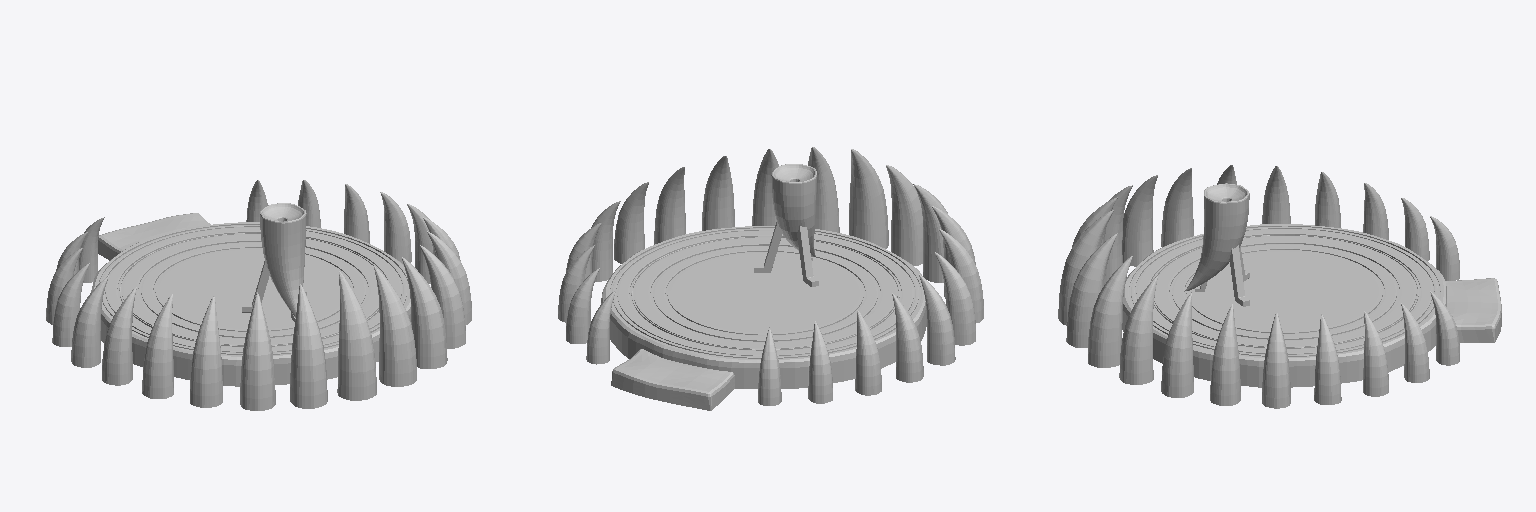
The model's file is Retrieval Altar.obj.
3 renders of one model, left to right at view 1: azimuth 30°, elevation 25°; view 2: azimuth 150°, elevation 25°; view 3: azimuth 270°, elevation 25°, orthographic.
Parts seen in each view (by area): view 1: pCylinder12; view 2: pCylinder12; view 3: pCylinder12.
Part boxes in pixels (left/top/right/bottom): pCylinder12: left=46, top=180, right=471, bottom=410; pCylinder12: left=558, top=147, right=983, bottom=410; pCylinder12: left=1058, top=165, right=1501, bottom=408.
Bounding box in the file's own units: 283 × 92.85 × 295.